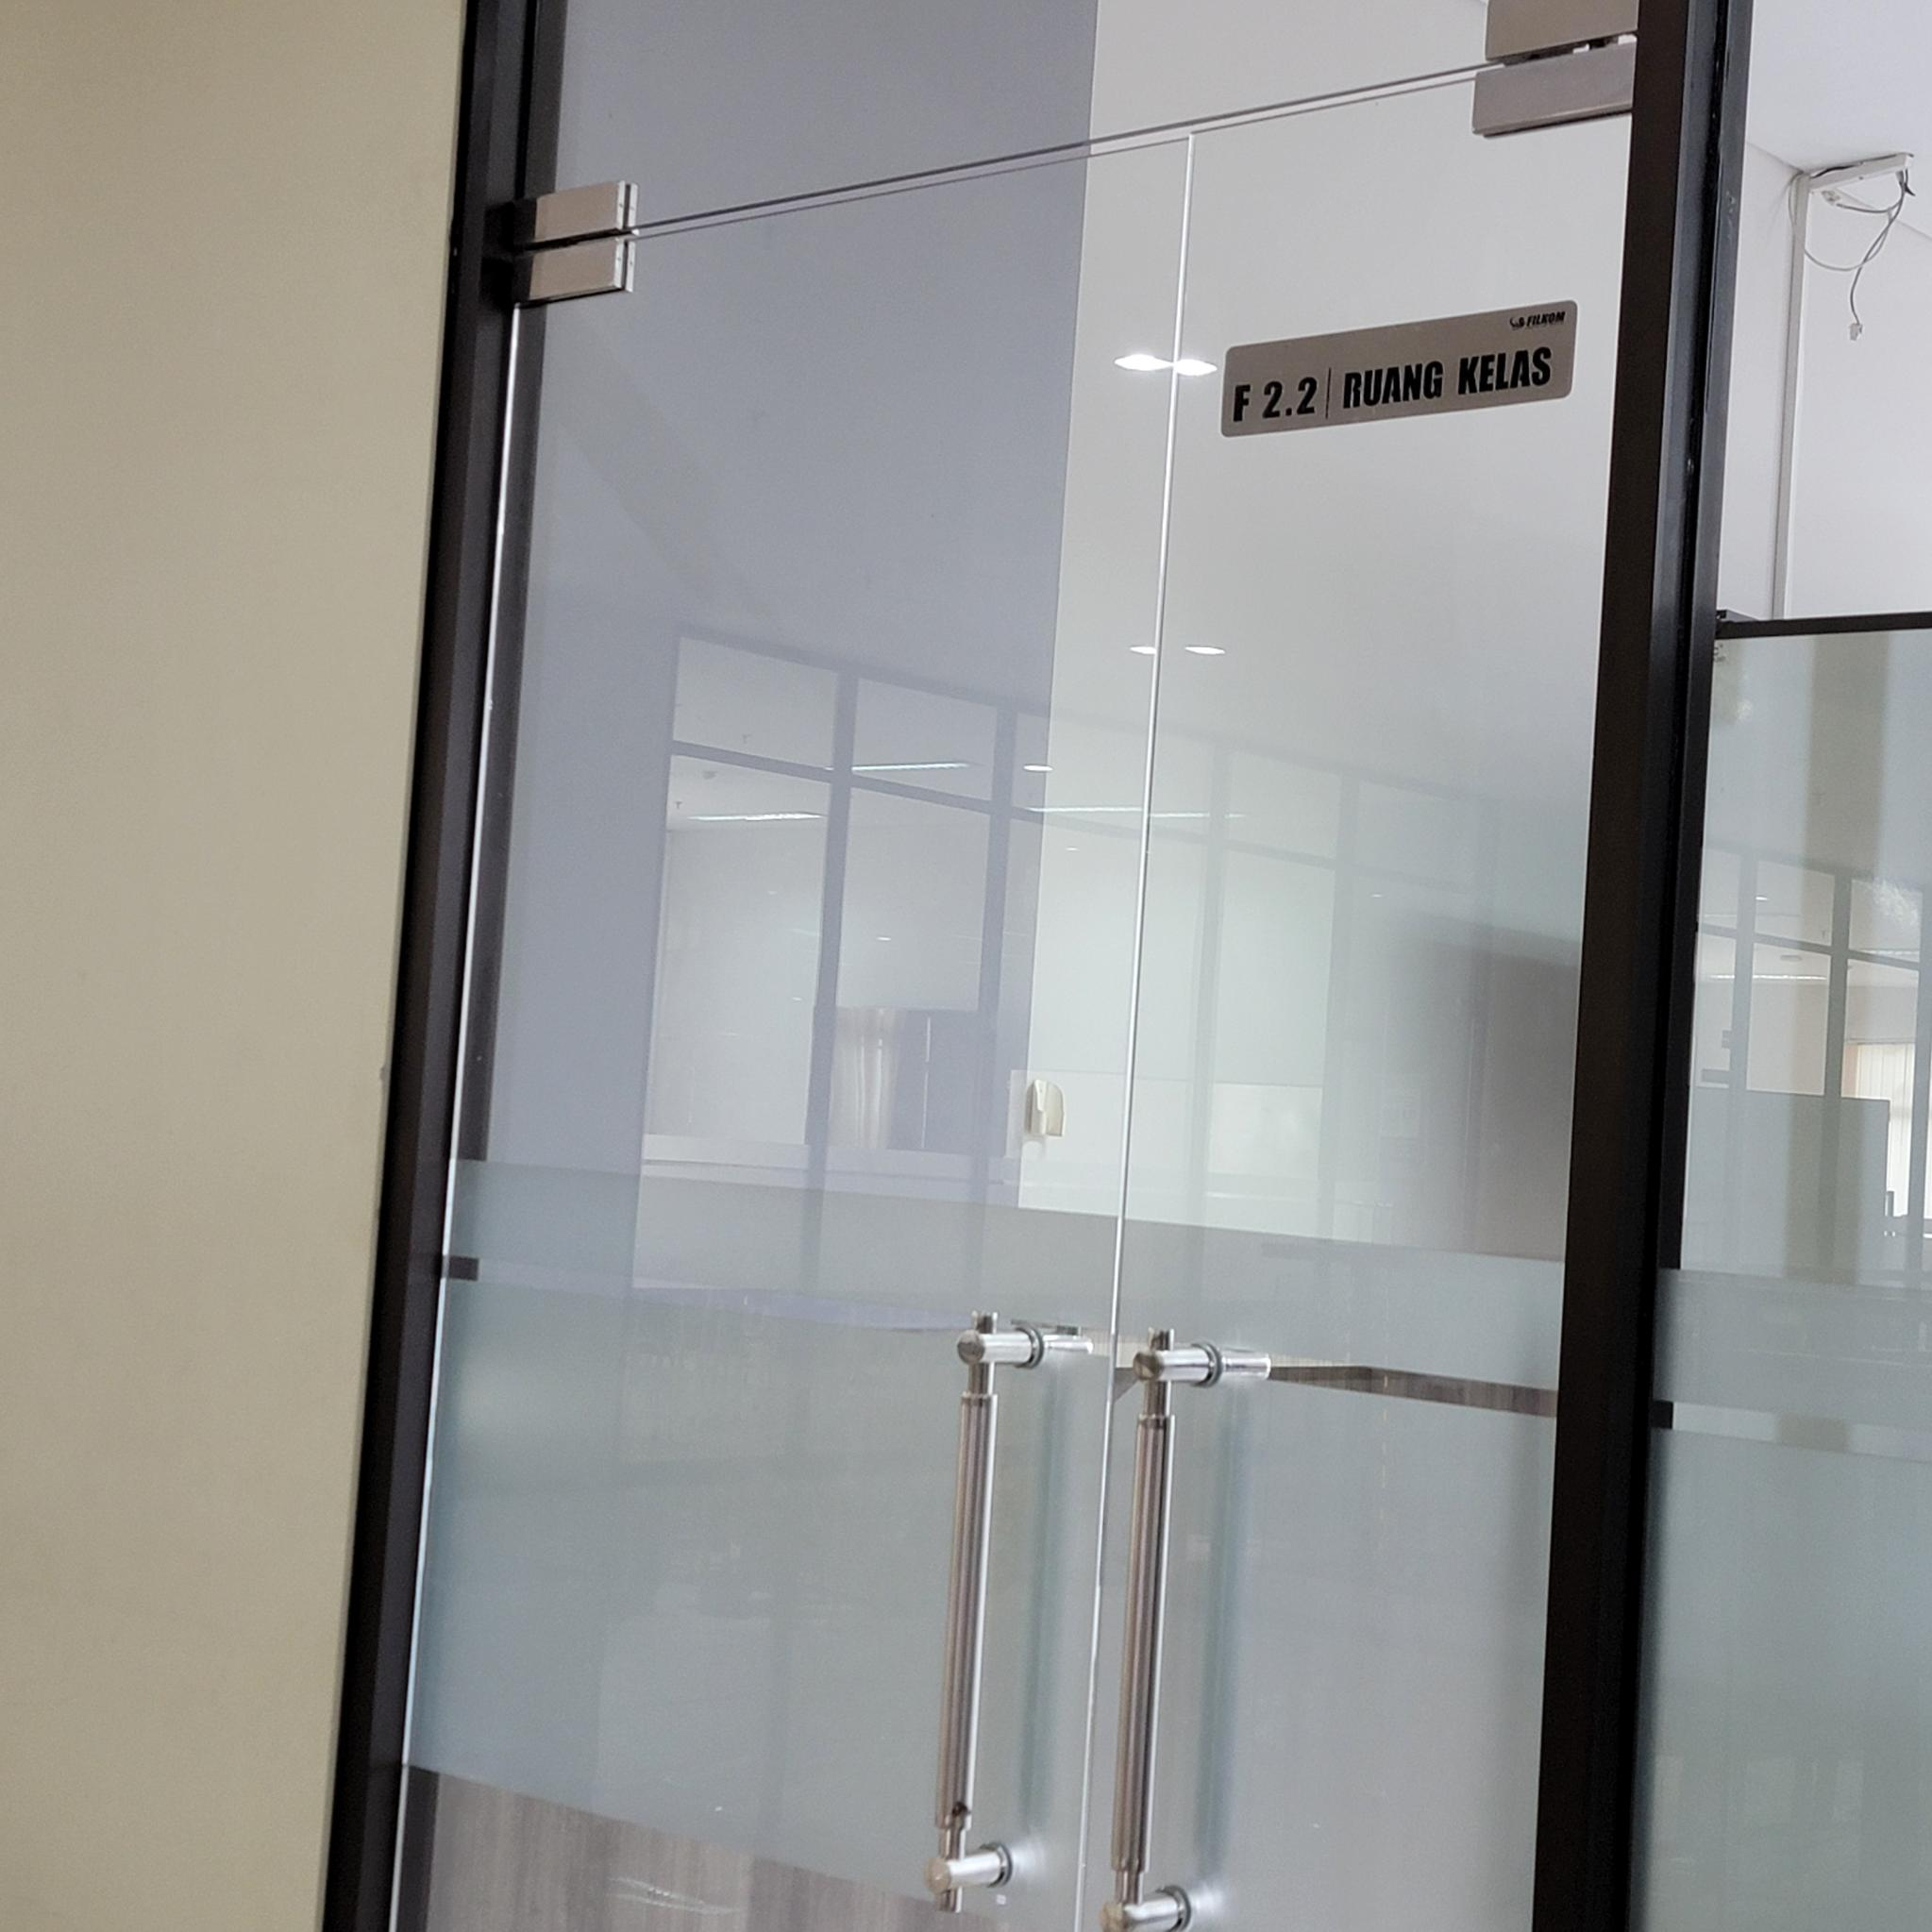plate: (1223, 295, 1578, 441)
